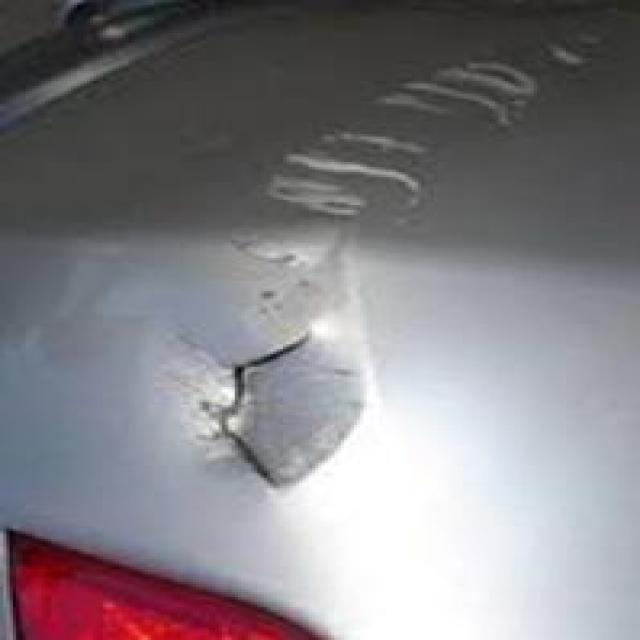scratch: (222, 24, 602, 252)
